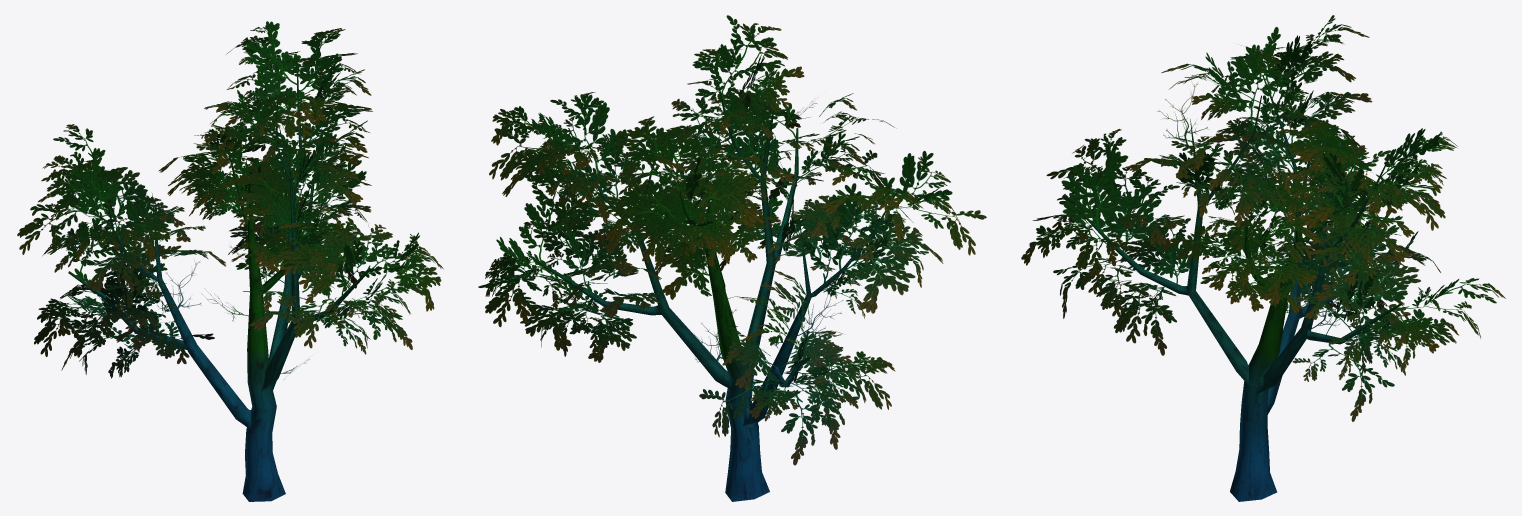
The model's file is Mate_A.glb.
3 renders of one model, left to right at view 1: azimuth 30°, elevation 25°; view 2: azimuth 150°, elevation 25°; view 3: azimuth 270°, elevation 25°, orthographic. The views are drawn at different scales.
Parts seen in each view (by area): view 1: YerbaMateA_LOD0; view 2: YerbaMateA_LOD0; view 3: YerbaMateA_LOD0.
Boxes of the visible parts, <box> form: YerbaMateA_LOD0: <box>17,21,443,501</box>; YerbaMateA_LOD0: <box>478,15,986,501</box>; YerbaMateA_LOD0: <box>1021,15,1505,501</box>.
Size of what is drawn, in the model's own units: 4.53 by 4.52 by 4.51.
2 materials, 2 textured.
